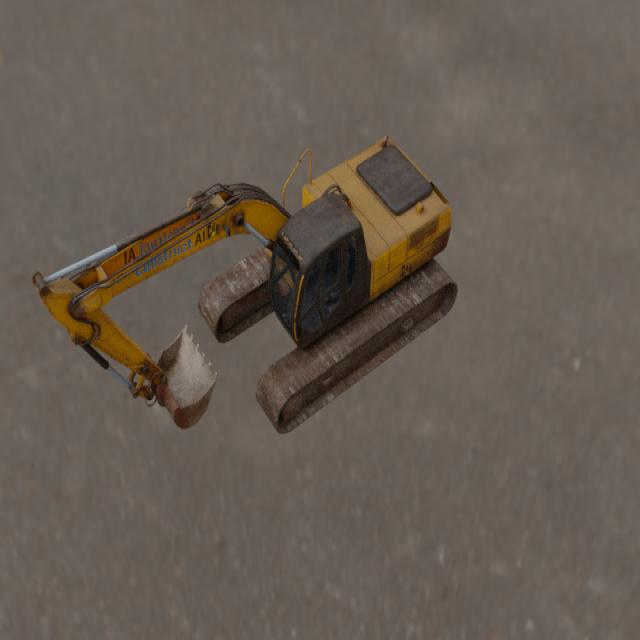excavator: (31, 132, 457, 435)
